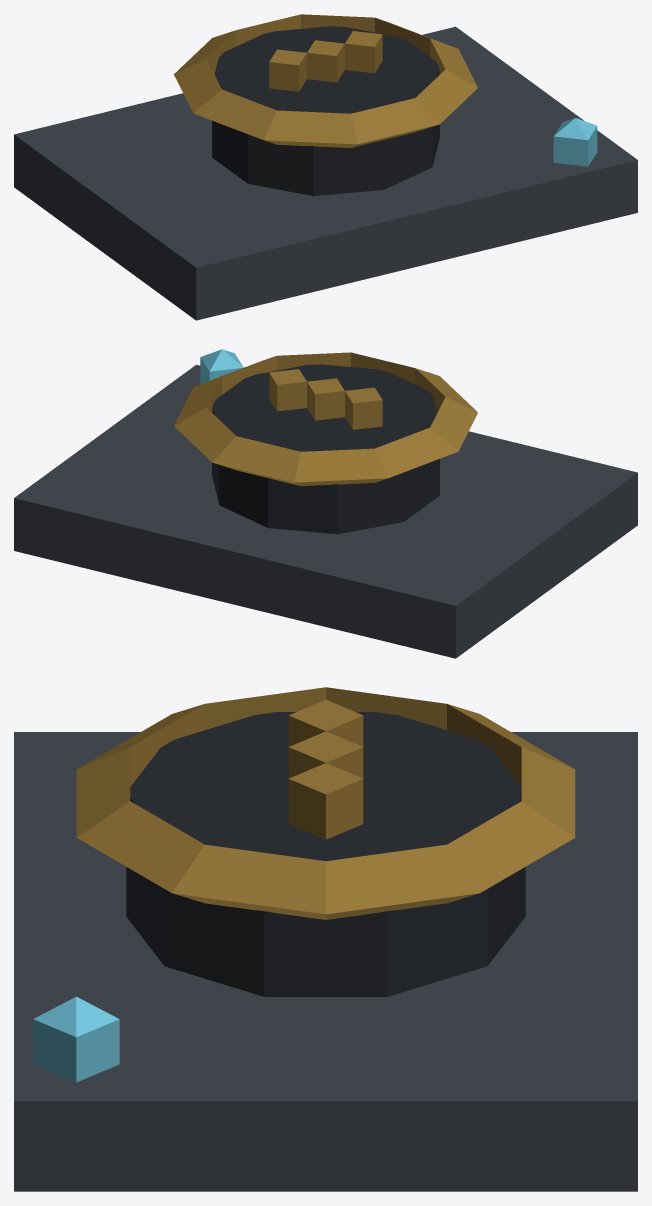
The model's file is droid-power-supply-port.glb.
3 views of the same model, one above another, from view 1: azimuth 30°, elevation 25°; view 2: azimuth 150°, elevation 25°; view 3: azimuth 270°, elevation 25° (orthographic). The views are drawn at different scales.
Visible parts, largest first — view 1: m; view 2: m; view 3: m.
Boxes of the visible parts, <box> form: m: <box>14,14,637,320</box>; m: <box>14,349,637,658</box>; m: <box>14,687,637,1191</box>.
Bounding box in the file's own units: 0.1 × 0.0329 × 0.0714.
